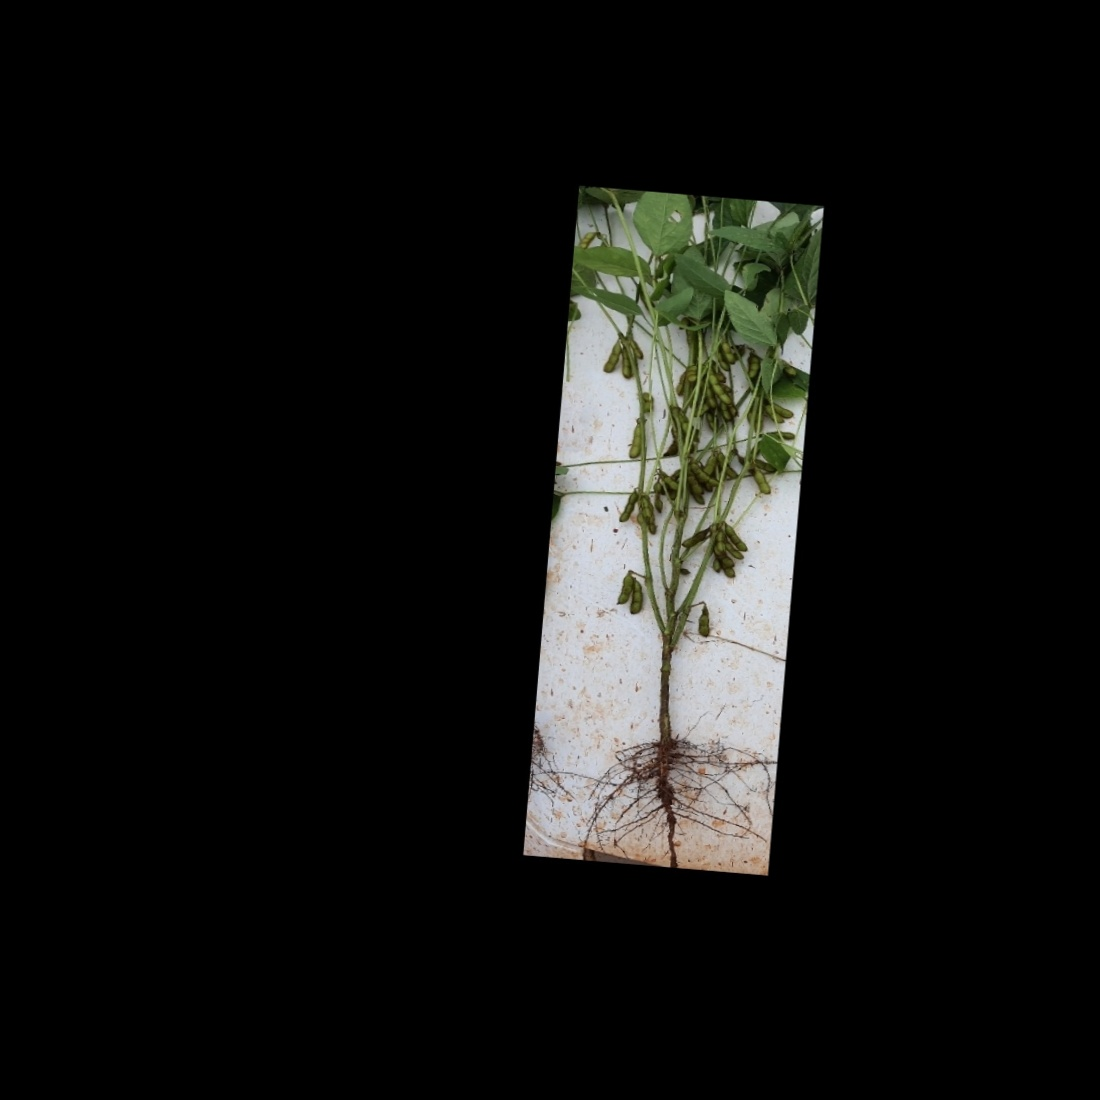pod: (703, 365, 738, 408), (714, 522, 754, 557), (682, 460, 727, 489), (620, 417, 648, 461), (676, 521, 714, 550), (616, 483, 641, 526), (715, 527, 746, 560), (598, 339, 623, 377), (626, 577, 647, 618), (609, 573, 636, 605), (750, 468, 777, 500), (693, 604, 717, 638), (716, 337, 739, 367)
soy: (529, 188, 814, 851)
